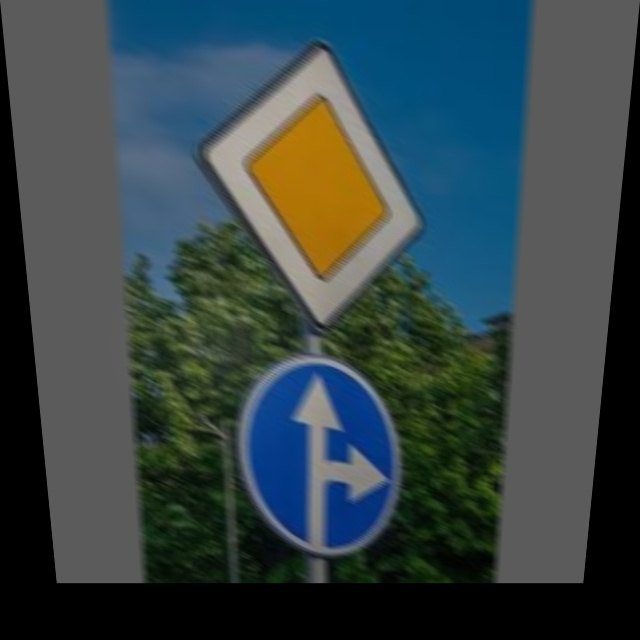Compulsory_Ahead_or_Turn_Right: (238, 352, 403, 553)
